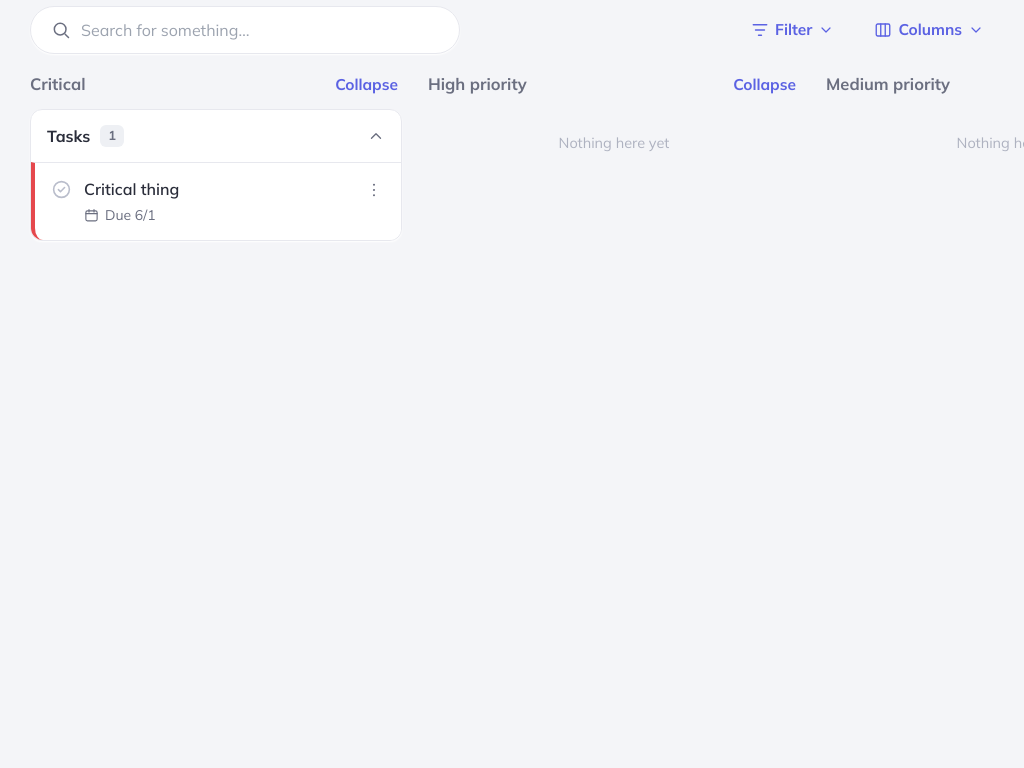
Test: Priorities compact layout › opens the edit drawer as a full-screen sheet
What coordinates should you click on to do the following:
click the text "Critical thing"
I would click on:
 (132, 189)
Its box is [84, 179, 179, 199].
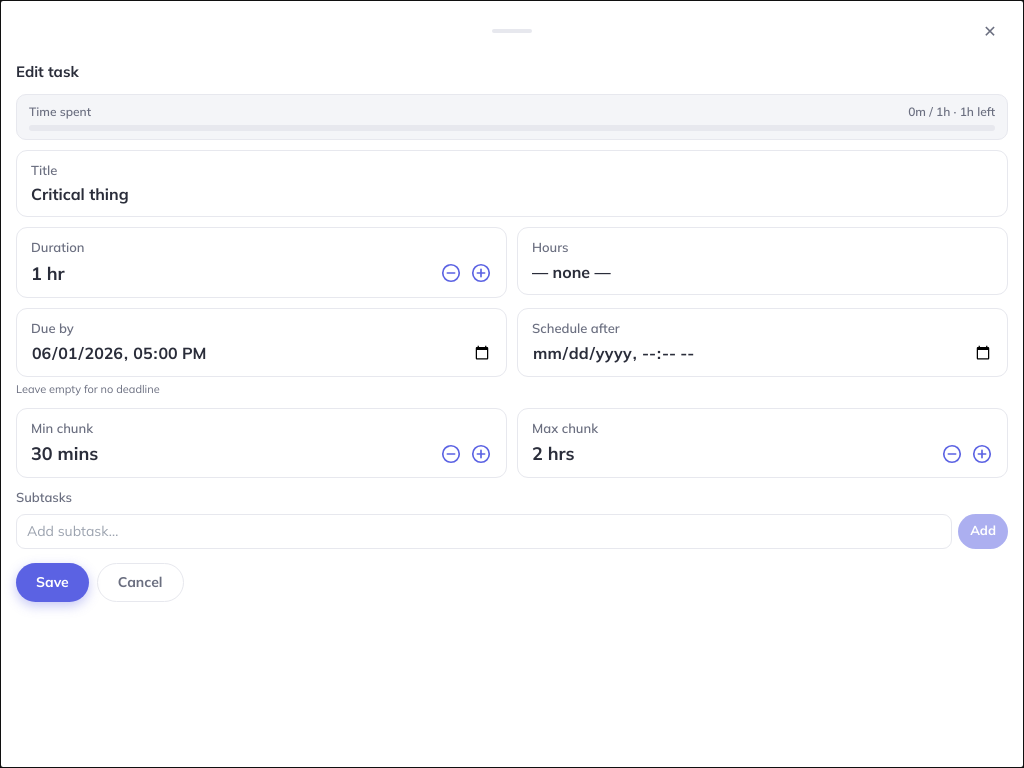
expect the element with test id "task-drawer" is shown: met
